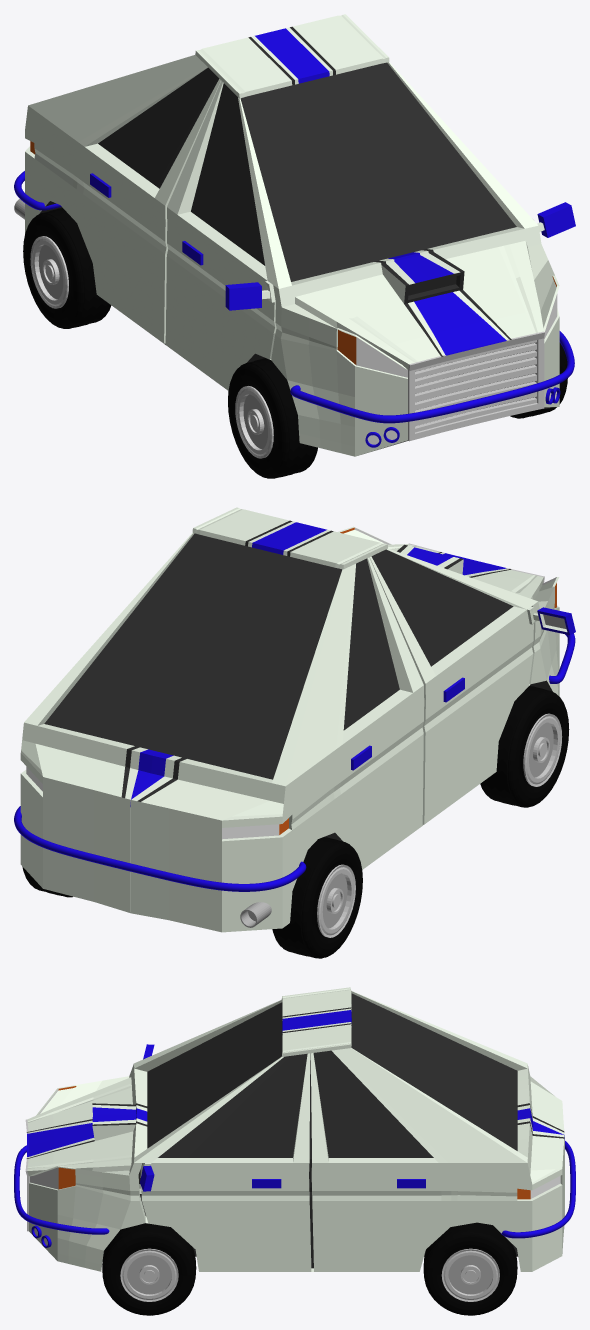
File: CR-CAR-23A.fbx
3 renders of one model, top to bottom at view 1: azimuth 30°, elevation 25°; view 2: azimuth 150°, elevation 25°; view 3: azimuth 270°, elevation 25°, orthographic. The views are drawn at different scales.
Parts seen in each view (by area): view 1: BODY, WHEEL.001, WHEEL.004, NurbsPath; view 2: BODY, WHEEL.004, WHEEL.001, NurbsPath, SHACMAN; view 3: BODY, WHEEL.002, WHEEL.003, NurbsPath.
Part boxes in pixels (x1,y1,x2,y2): BODY: [25, 14, 575, 456]; WHEEL.001: [228, 358, 317, 478]; WHEEL.004: [23, 208, 111, 328]; NurbsPath: [14, 171, 574, 423]; BODY: [20, 507, 575, 932]; WHEEL.004: [272, 837, 362, 958]; WHEEL.001: [480, 686, 569, 807]; NurbsPath: [14, 633, 575, 891]; SHACMAN: [240, 902, 271, 927]; BODY: [25, 987, 564, 1271]; WHEEL.002: [423, 1222, 517, 1315]; WHEEL.003: [102, 1223, 196, 1315]; NurbsPath: [14, 1141, 575, 1238].
Size of the model in its own units: 131 by 114 by 234.
